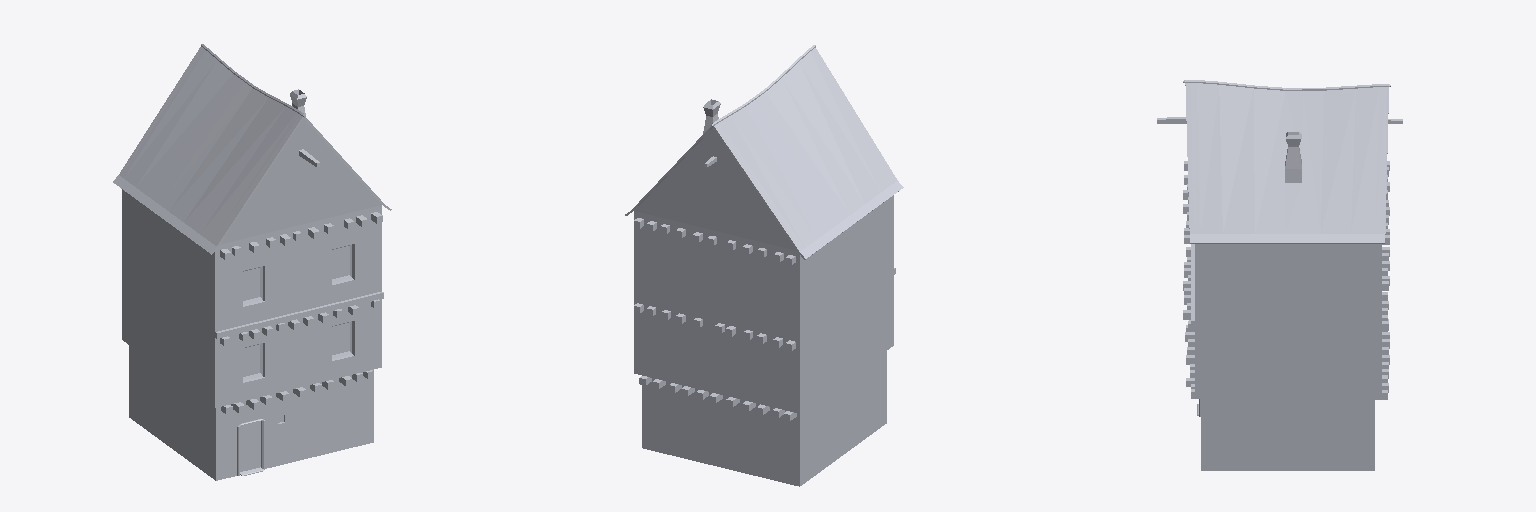
File: housemedieval.obj
3 renders of one model, left to right at view 1: azimuth 30°, elevation 25°; view 2: azimuth 150°, elevation 25°; view 3: azimuth 270°, elevation 25°, orthographic.
Parts seen in each view (by area): view 1: House; view 2: House; view 3: House.
Boxes of the visible parts, x1=… form: House: x1=113, y1=44, x2=391, y2=480; House: x1=625, y1=45, x2=903, y2=486; House: x1=1157, y1=80, x2=1402, y2=470.
Size of the model in its own units: 8.02 by 14.94 by 9.42.